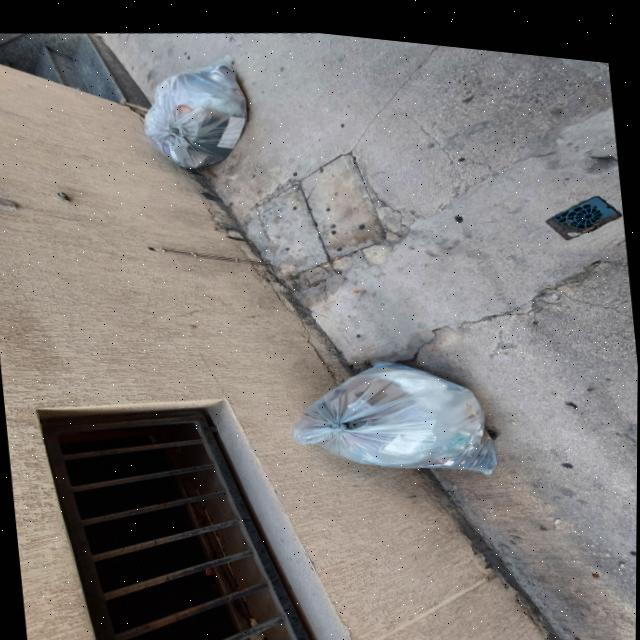Recycled Waste -Grey or Green Bag-: (278, 325, 512, 494), (129, 38, 264, 183)
